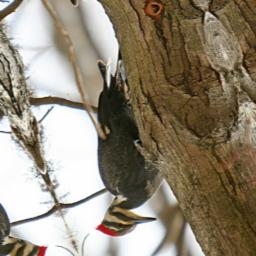Woodpecker: (31, 46, 190, 245)
